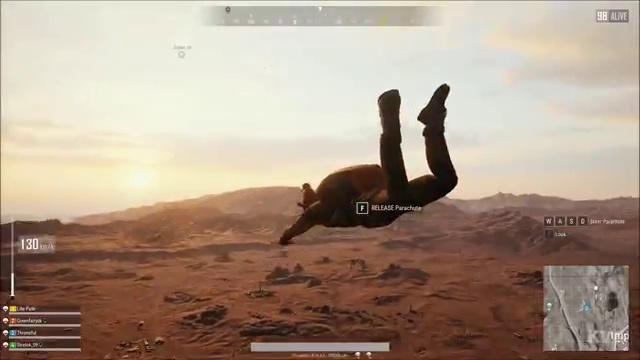Player: (241, 86, 481, 257)
